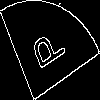P: (24, 25, 68, 76)
